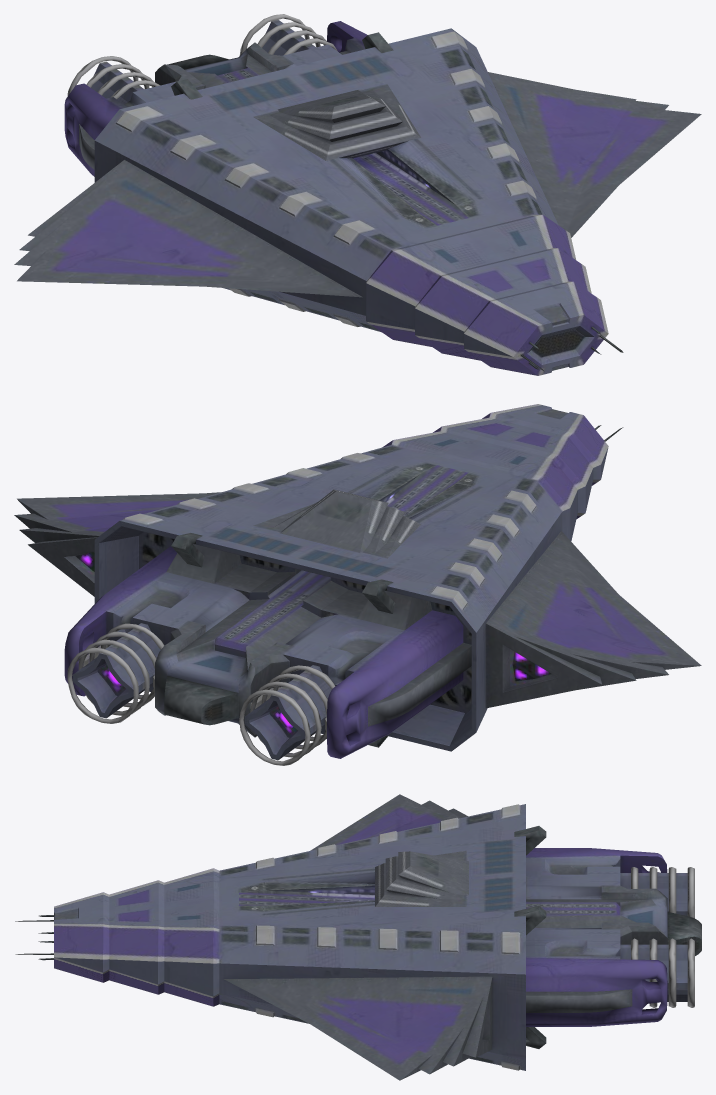
Rendered from frigate-0-3.glb.
The picture shows the model from 3 angles, top to bottom: view 1: azimuth 30°, elevation 25°; view 2: azimuth 150°, elevation 25°; view 3: azimuth 270°, elevation 25°; orthographic projection. The views are drawn at different scales.
Parts seen in each view (by area): view 1: frigate-0-3_0; view 2: frigate-0-3_0; view 3: frigate-0-3_0.
Part boxes in pixels (x1=…): frigate-0-3_0: x1=14, y1=14, x2=701, y2=375; frigate-0-3_0: x1=14, y1=404, x2=701, y2=765; frigate-0-3_0: x1=15, y1=794, x2=701, y2=1080.
Size of the model in its own units: 0.9855 by 0.2505 by 1.
Materials: 1 (1 with a texture image).
